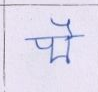e_matra: (51, 16, 76, 35)
